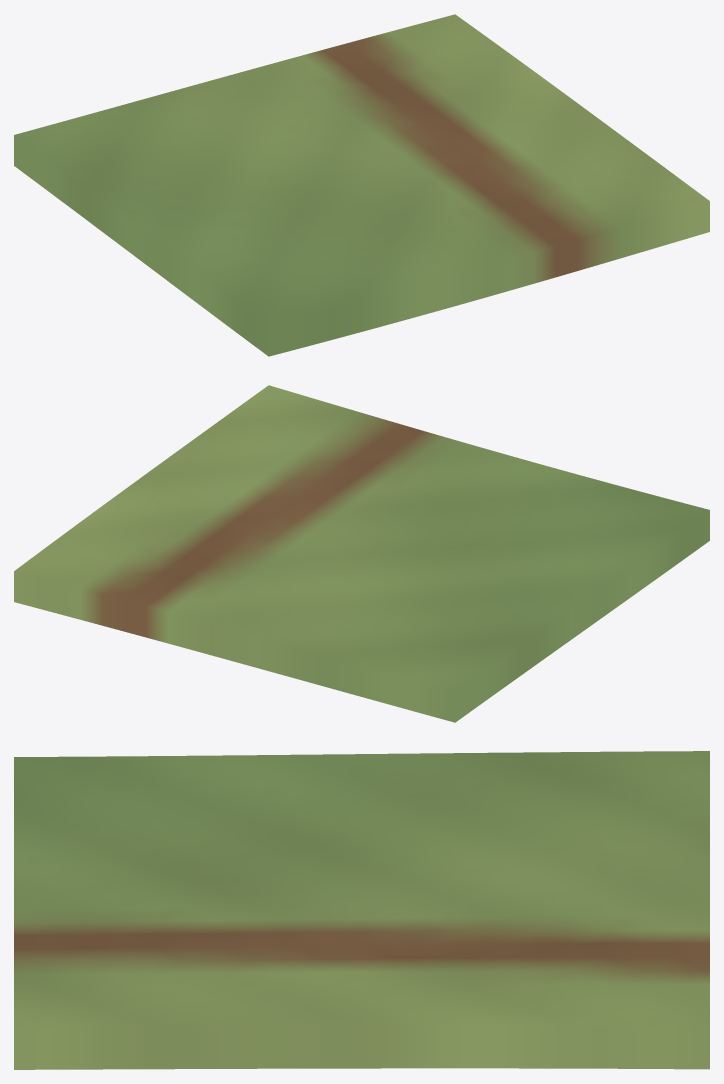
3 views of the same model, one above another, from view 1: azimuth 30°, elevation 25°; view 2: azimuth 150°, elevation 25°; view 3: azimuth 270°, elevation 25° (orthographic). The views are drawn at different scales.
Visible parts, largest first — view 1: terrain; view 2: terrain; view 3: terrain.
Part boxes in pixels (x1,y1,x2,y2): terrain: [14, 14, 709, 356]; terrain: [14, 385, 709, 722]; terrain: [14, 751, 709, 1069].
Size of the model in its own units: 30 by 3.18 by 30.
